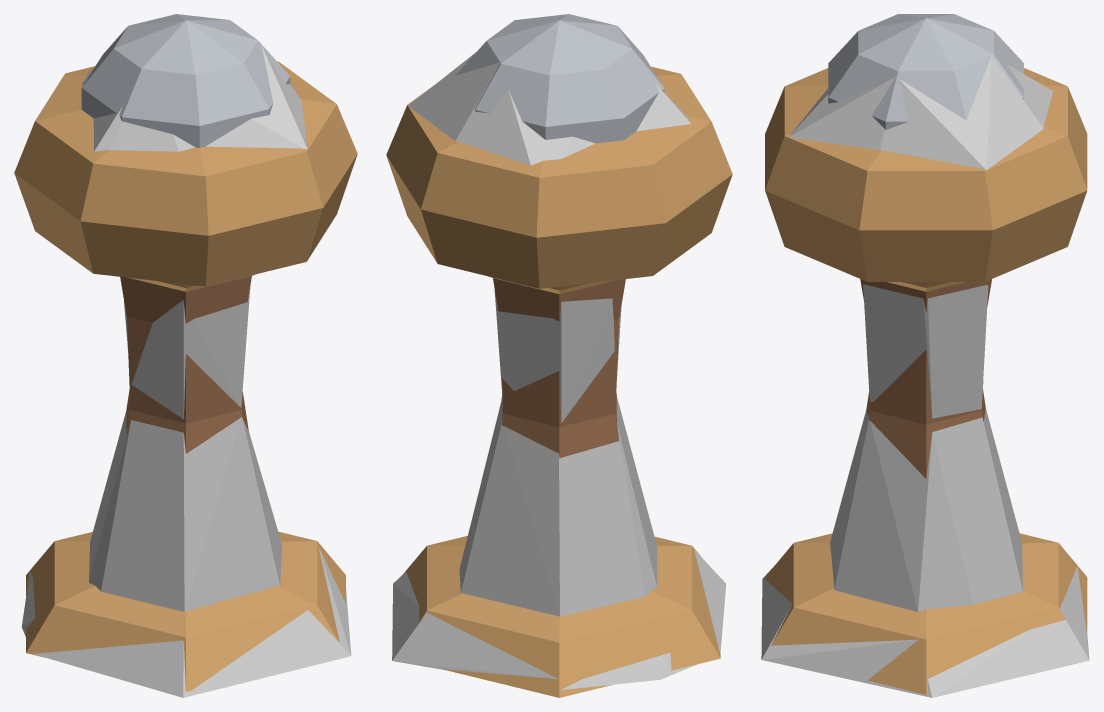
File: SM_Prop_Viewing_Scope_01_Stand_01.fbx
3 views of the same model, side by side, from view 1: azimuth 30°, elevation 25°; view 2: azimuth 150°, elevation 25°; view 3: azimuth 270°, elevation 25° (orthographic).
Visible parts, largest first — view 1: SM_Prop_Viewing_Scope_01_Stand_01, SM_Prop_Viewing_Scope_01_Stand_01_ConvexHulls; view 2: SM_Prop_Viewing_Scope_01_Stand_01, SM_Prop_Viewing_Scope_01_Stand_01_ConvexHulls; view 3: SM_Prop_Viewing_Scope_01_Stand_01, SM_Prop_Viewing_Scope_01_Stand_01_ConvexHulls.
Part boxes in pixels (x1,y1,x2,y2): SM_Prop_Viewing_Scope_01_Stand_01: (14,14,357,691); SM_Prop_Viewing_Scope_01_Stand_01_ConvexHulls: (21,45,351,697); SM_Prop_Viewing_Scope_01_Stand_01: (386,14,732,697); SM_Prop_Viewing_Scope_01_Stand_01_ConvexHulls: (392,52,726,689); SM_Prop_Viewing_Scope_01_Stand_01: (765,14,1087,694); SM_Prop_Viewing_Scope_01_Stand_01_ConvexHulls: (761,56,1089,697).
Bounding box in the file's own units: 27.26 × 23.9 × 48.4.
2 materials, 1 textured.
